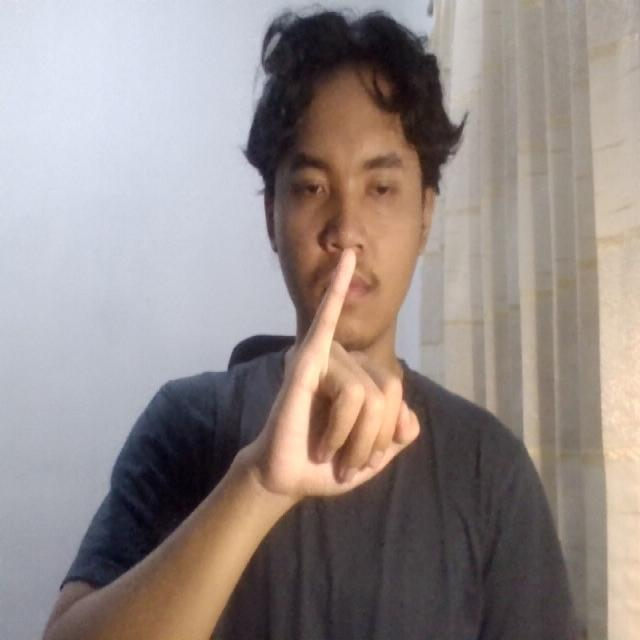Hello: (232, 238, 435, 526)
